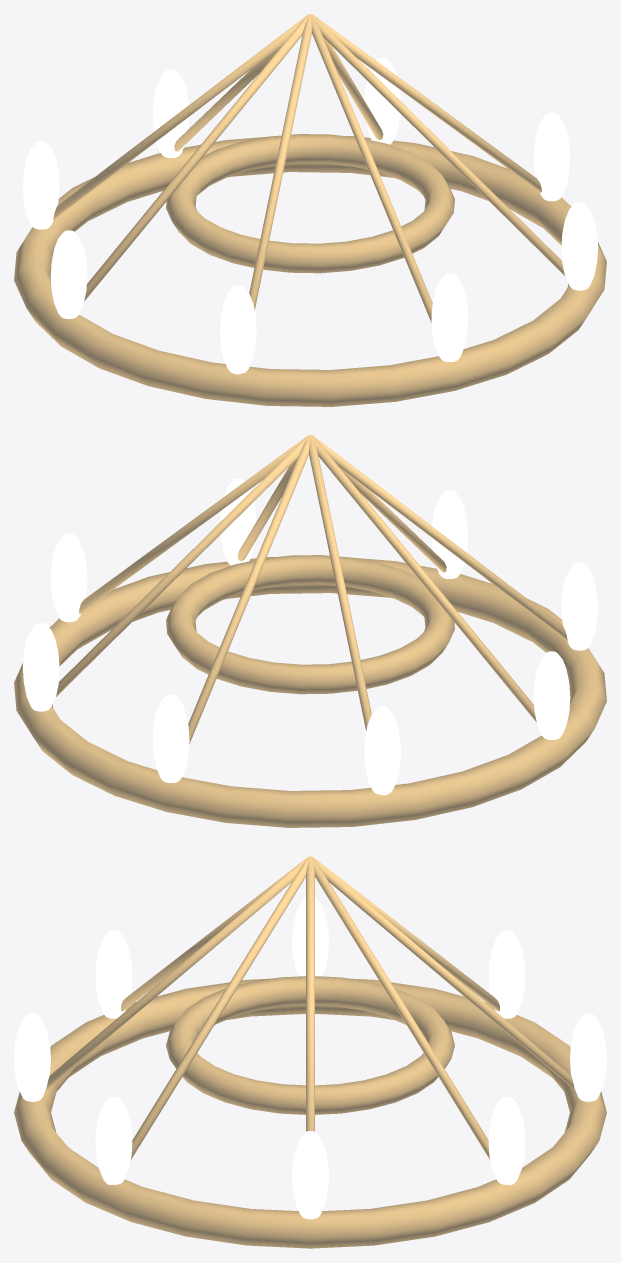
The model's file is castle_detail_chandelier_purified.glb.
3 renders of one model, top to bottom at view 1: azimuth 30°, elevation 25°; view 2: azimuth 150°, elevation 25°; view 3: azimuth 270°, elevation 25°, orthographic.
Visible parts, largest first — view 1: castle_detail_chandelier_purified_surface; view 2: castle_detail_chandelier_purified_surface; view 3: castle_detail_chandelier_purified_surface.
Part boxes in pixels (bbox=[...]): castle_detail_chandelier_purified_surface: bbox=[14, 14, 606, 406]; castle_detail_chandelier_purified_surface: bbox=[14, 435, 606, 827]; castle_detail_chandelier_purified_surface: bbox=[14, 856, 606, 1248].
Bounding box in the file's own units: 3.2 × 1.6 × 3.2.
